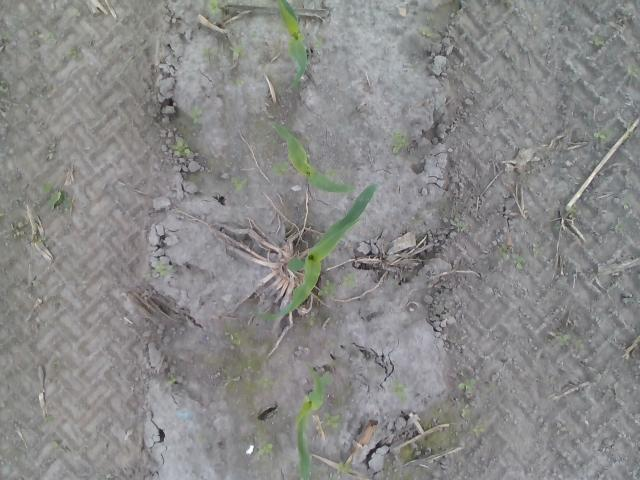Maize: (250, 184, 378, 321), (269, 120, 358, 193), (294, 363, 332, 480), (268, 0, 310, 93)
Weeds: (496, 242, 525, 270), (40, 182, 68, 210), (8, 221, 44, 242), (442, 207, 464, 232), (257, 423, 274, 455), (416, 10, 434, 38), (166, 138, 191, 156), (388, 130, 406, 154), (32, 31, 56, 48), (321, 409, 340, 430), (392, 378, 408, 402), (270, 158, 290, 177), (318, 278, 338, 297), (237, 351, 257, 370), (231, 173, 250, 192), (456, 376, 476, 394), (62, 48, 82, 66), (253, 376, 274, 393), (342, 271, 360, 290), (224, 329, 243, 347), (592, 126, 616, 140), (190, 103, 206, 123), (624, 62, 640, 80), (334, 460, 352, 476), (207, 0, 222, 18), (154, 260, 172, 274), (470, 424, 488, 438), (322, 166, 337, 182), (228, 45, 242, 61), (228, 77, 246, 88), (0, 78, 9, 98), (592, 36, 606, 48), (564, 204, 578, 216), (558, 332, 568, 348), (64, 6, 80, 16), (320, 338, 336, 348), (80, 270, 88, 289), (408, 216, 423, 226), (0, 210, 13, 221), (531, 242, 540, 256), (314, 36, 324, 48), (47, 414, 57, 426), (460, 406, 470, 418), (304, 311, 316, 321), (230, 398, 240, 410), (202, 47, 211, 58), (616, 224, 626, 233), (624, 199, 632, 209), (168, 374, 176, 384)
